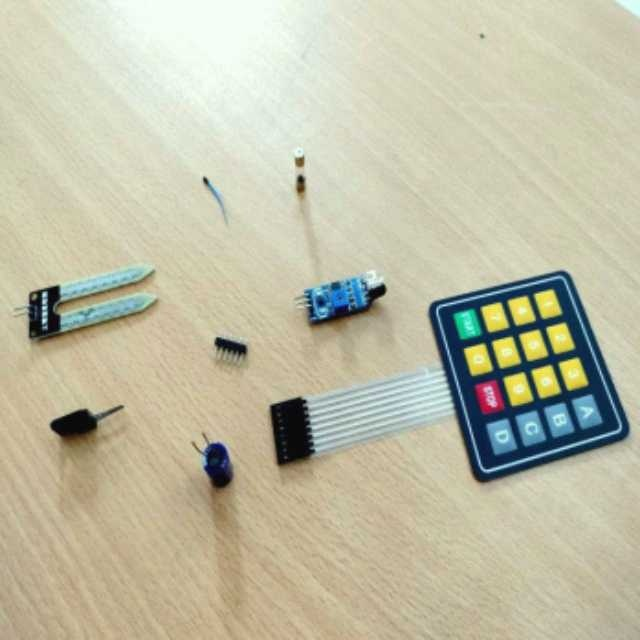capacitor: (202, 442, 233, 487)
